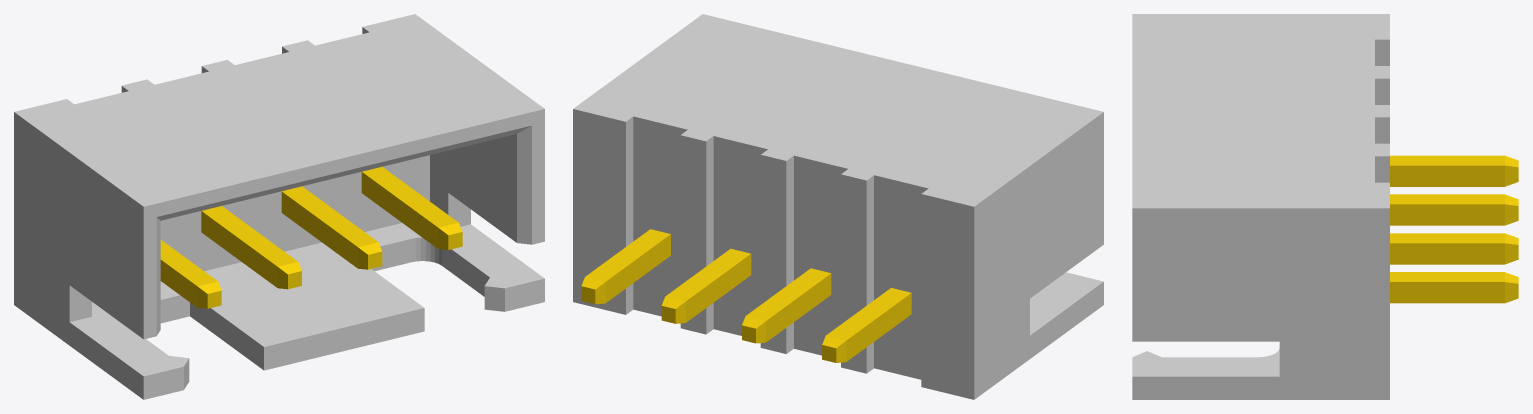
The model's file is DS1069-4 CWF-4.obj.
The picture shows the model from 3 angles, left to right: view 1: azimuth 30°, elevation 25°; view 2: azimuth 150°, elevation 25°; view 3: azimuth 270°, elevation 25°; orthographic projection.
Parts seen in each view (by area): view 1: DS1069-4_CWF-4; view 2: DS1069-4_CWF-4; view 3: DS1069-4_CWF-4.
Boxes of the visible parts, bbox=[...] form: DS1069-4_CWF-4: bbox=[14, 14, 544, 399]; DS1069-4_CWF-4: bbox=[573, 14, 1103, 399]; DS1069-4_CWF-4: bbox=[1132, 14, 1518, 399].
Size of the model in its own units: 0.0216 by 0.00993 by 0.0181.
